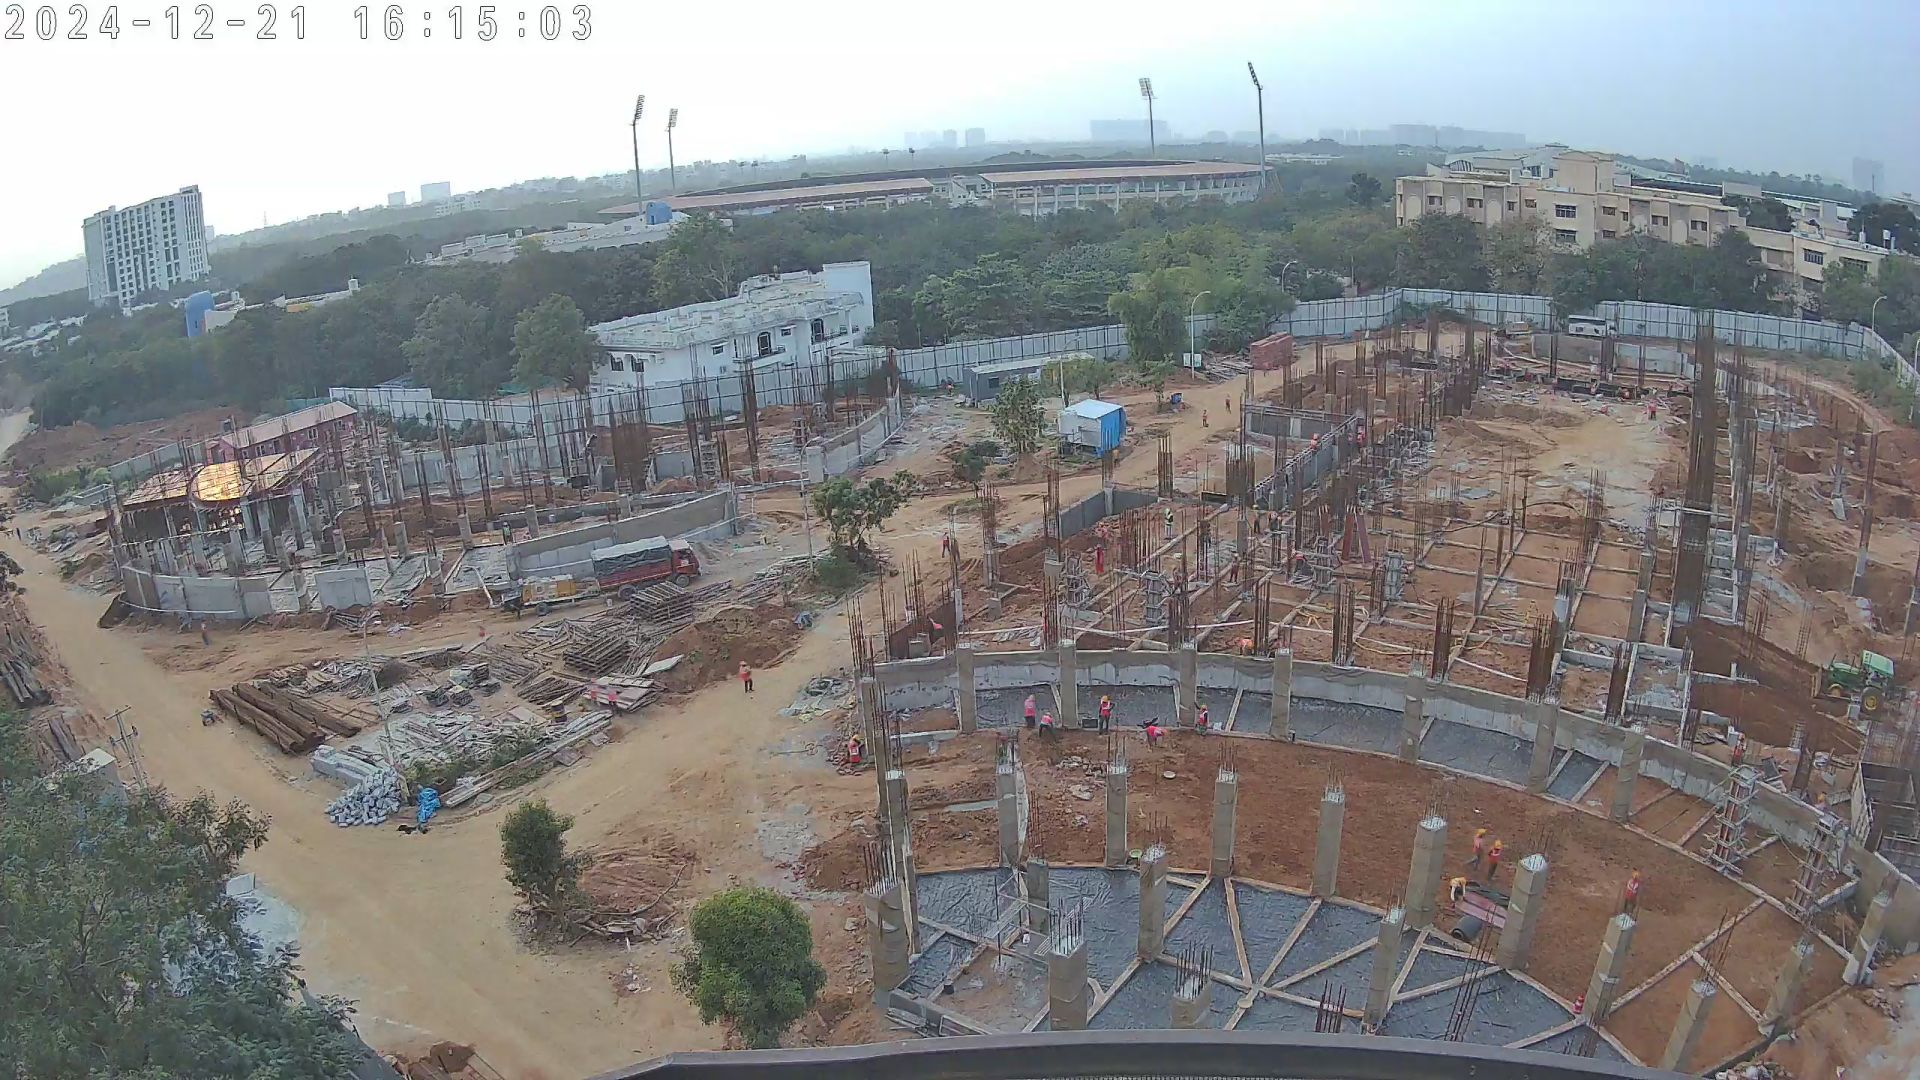bulldozer: (1810, 646, 1896, 717)
truck: (514, 536, 704, 608), (1564, 311, 1620, 343)
worker: (734, 660, 761, 698), (1094, 691, 1113, 736), (1624, 867, 1639, 924), (1227, 633, 1257, 661), (1471, 823, 1487, 874), (1351, 421, 1369, 464), (1731, 731, 1749, 773), (1144, 723, 1167, 754), (846, 731, 861, 777), (1021, 692, 1037, 730), (1227, 550, 1243, 588), (607, 677, 621, 719), (1447, 873, 1467, 902), (1488, 836, 1502, 876), (1040, 711, 1057, 742), (1160, 508, 1176, 540), (1199, 700, 1210, 741), (936, 526, 950, 557), (499, 520, 514, 547), (1814, 791, 1831, 814), (198, 616, 211, 646), (589, 683, 600, 712), (1197, 407, 1209, 428), (1307, 431, 1317, 456), (943, 381, 957, 398), (1648, 397, 1657, 423), (1598, 401, 1611, 417), (1223, 390, 1231, 414), (1112, 447, 1121, 468), (1503, 357, 1512, 377), (1619, 386, 1631, 399), (1589, 382, 1599, 396)
